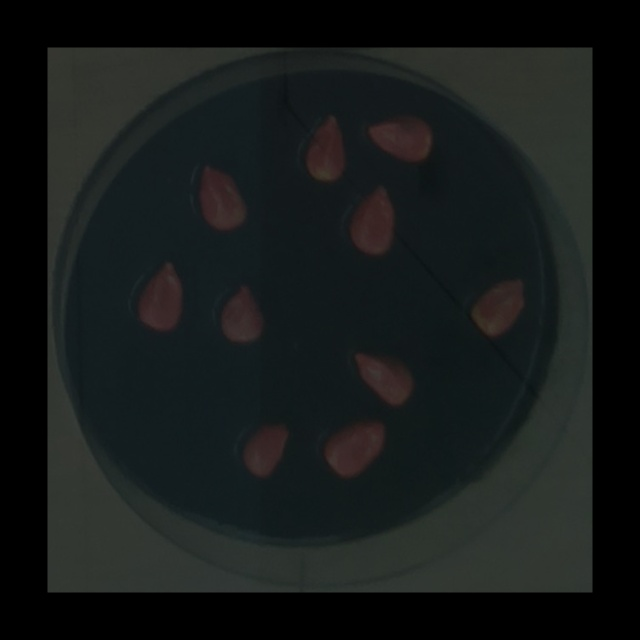Zea mays: (319, 412, 390, 482), (348, 342, 419, 411), (362, 106, 440, 168), (464, 270, 530, 343), (192, 157, 252, 236), (344, 176, 400, 260), (133, 252, 189, 334), (299, 108, 351, 187), (237, 414, 296, 483), (214, 278, 271, 348)
